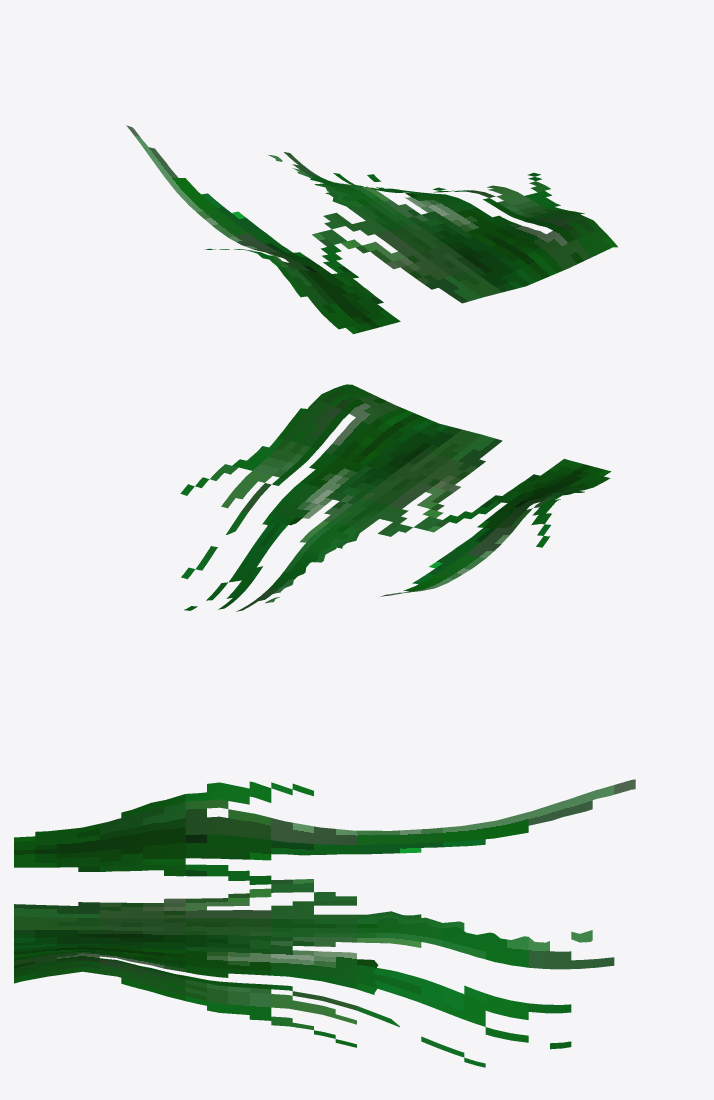
The model's file is groundNewNew.dae.
3 views of the same model, one above another, from view 1: azimuth 30°, elevation 25°; view 2: azimuth 150°, elevation 25°; view 3: azimuth 270°, elevation 25° (orthographic). The views are drawn at different scales.
Visible parts, largest first — view 1: pPlane1; view 2: pPlane1; view 3: pPlane1.
Part boxes in pixels (left/top/right/bottom): pPlane1: left=126, top=125, right=617, bottom=334; pPlane1: left=180, top=384, right=611, bottom=611; pPlane1: left=14, top=779, right=635, bottom=1067.
Size of the model in its own units: 193 by 57.9 by 193.
